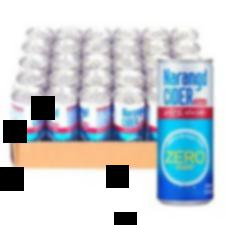narangdcider: (156, 57, 215, 207)
